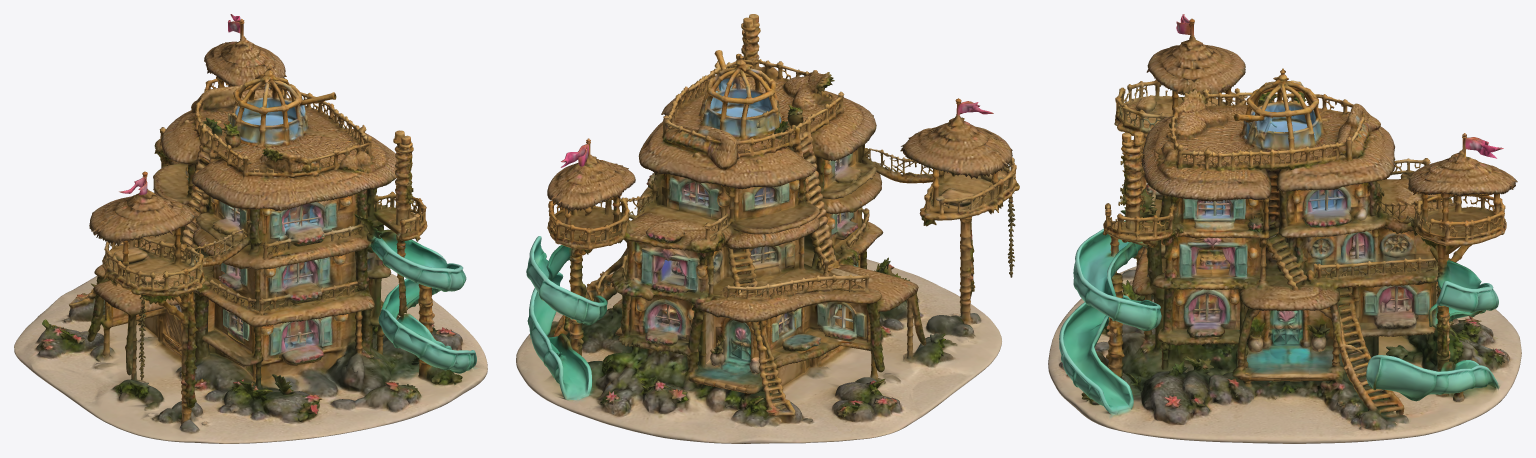
File: SM_PearlCove_Clubhouse.glb
3 renders of one model, left to right at view 1: azimuth 30°, elevation 25°; view 2: azimuth 150°, elevation 25°; view 3: azimuth 270°, elevation 25°, orthographic. The views are drawn at different scales.
Visible parts, largest first — view 1: tripo_node_4c5e6f52-6d2a-40a2-9d8c-c3e8f6b6e5ca; view 2: tripo_node_4c5e6f52-6d2a-40a2-9d8c-c3e8f6b6e5ca; view 3: tripo_node_4c5e6f52-6d2a-40a2-9d8c-c3e8f6b6e5ca.
Part boxes in pixels (bbox=[...]): tripo_node_4c5e6f52-6d2a-40a2-9d8c-c3e8f6b6e5ca: bbox=[14, 14, 487, 443]; tripo_node_4c5e6f52-6d2a-40a2-9d8c-c3e8f6b6e5ca: bbox=[516, 14, 1019, 443]; tripo_node_4c5e6f52-6d2a-40a2-9d8c-c3e8f6b6e5ca: bbox=[1048, 14, 1521, 443].
Size of the model in its own units: 0.9544 by 0.6643 by 0.9801.
Materials: 1 (1 with a texture image).
